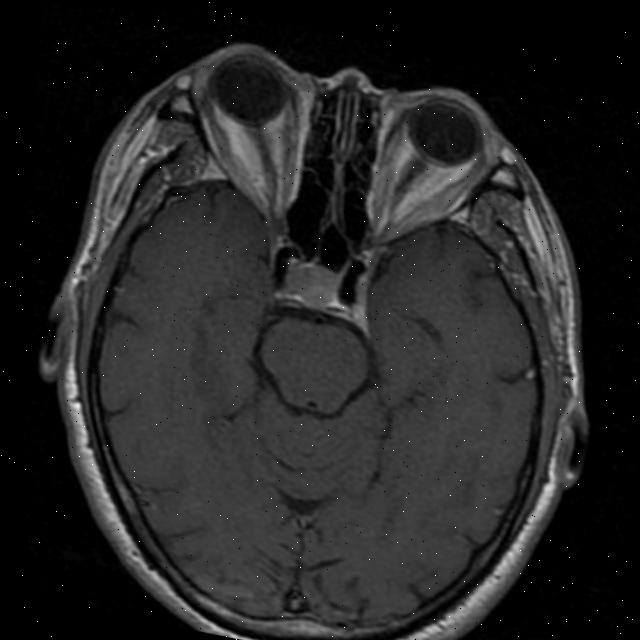Pituitary: (280, 256, 347, 310)
